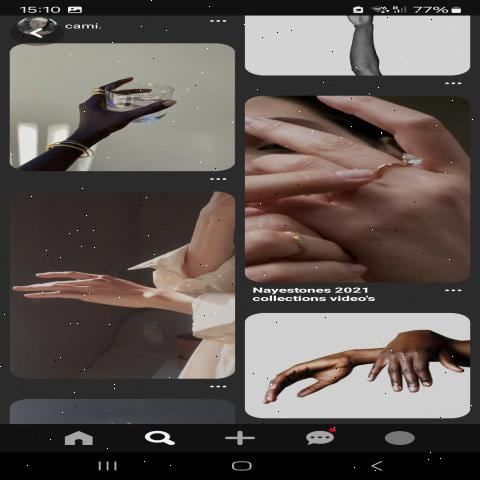Hands: (12, 236, 195, 356), (68, 66, 186, 148), (364, 324, 455, 410), (257, 344, 356, 410)
